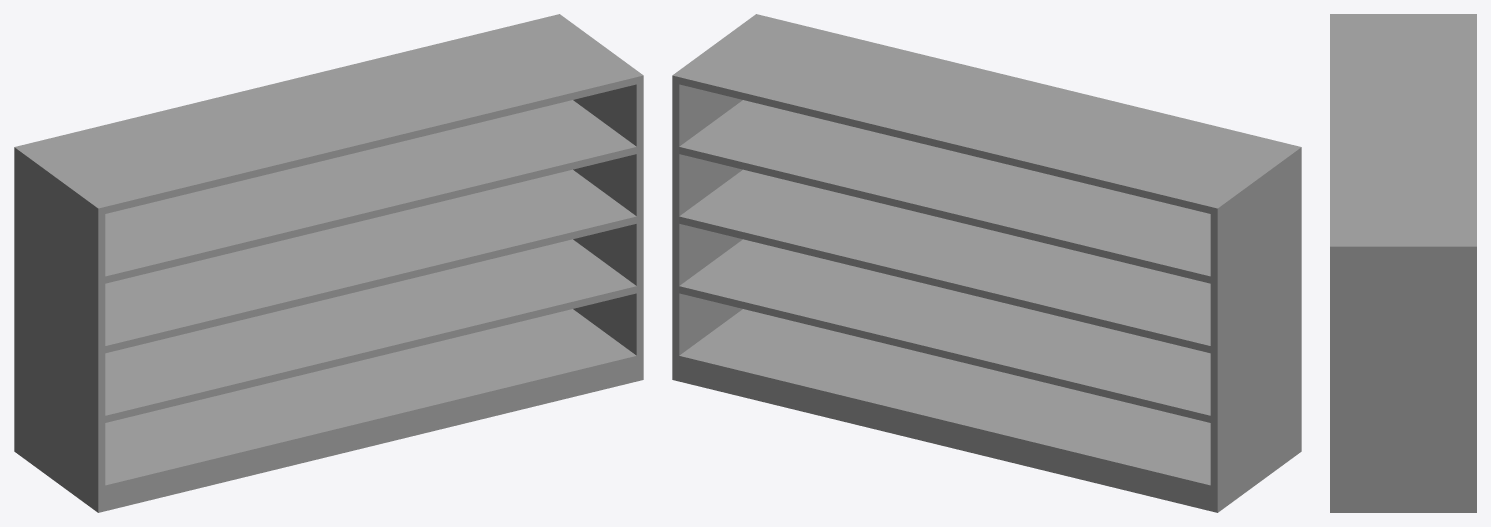
The model's file is meuble_68faa6d804cc1.glb.
The picture shows the model from 3 angles, left to right: view 1: azimuth 30°, elevation 25°; view 2: azimuth 150°, elevation 25°; view 3: azimuth 270°, elevation 25°; orthographic projection. The views are drawn at different scales.
Visible parts, largest first — view 1: world; view 2: world; view 3: world.
Boxes of the visible parts, x1=… form: world: x1=14, y1=14, x2=643, y2=512; world: x1=672, y1=14, x2=1301, y2=512; world: x1=1330, y1=14, x2=1476, y2=512.
Bounding box in the file's own units: 1.5 × 0.8 × 0.4.
Materials: 1 (1 with a texture image).
